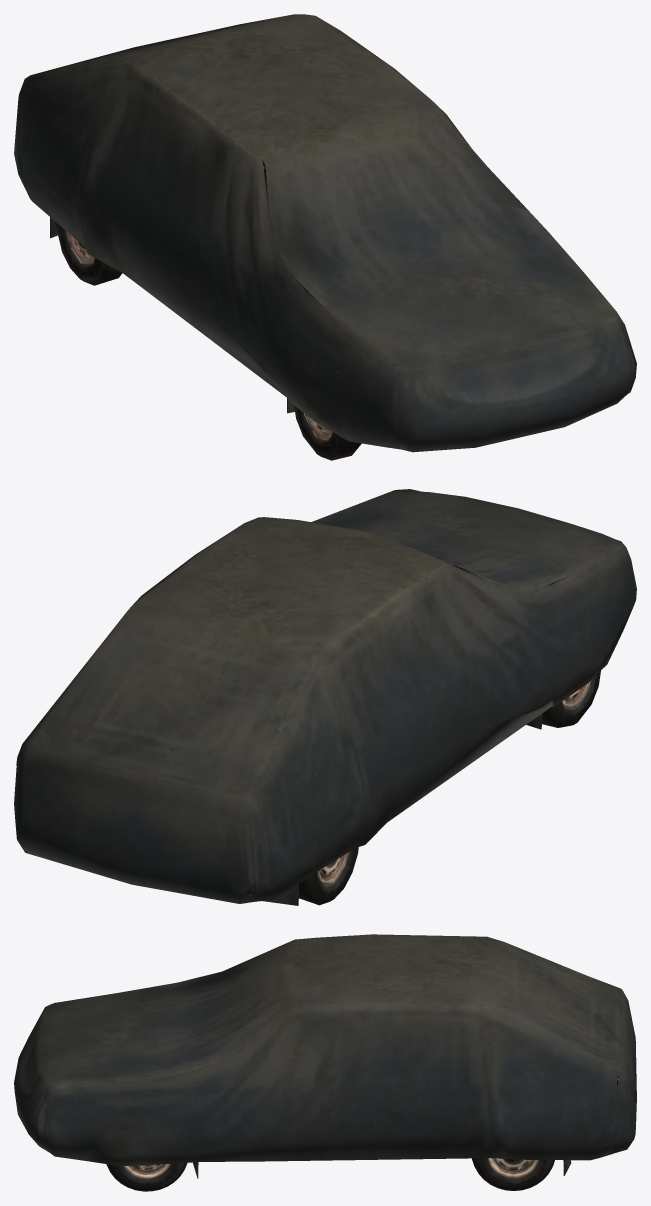
The model's file is voiture_bachee_lod0.glb.
The picture shows the model from 3 angles, top to bottom: view 1: azimuth 30°, elevation 25°; view 2: azimuth 150°, elevation 25°; view 3: azimuth 270°, elevation 25°; orthographic projection. The views are drawn at different scales.
Parts seen in each view (by area): view 1: covered_car_wheel_02; view 2: covered_car_wheel_02; view 3: covered_car_wheel_02, covered_car_wheel_01.
Part boxes in pixels (x1=…): covered_car_wheel_02: x1=14, y1=14, x2=636, y2=460; covered_car_wheel_02: x1=14, y1=489, x2=636, y2=905; covered_car_wheel_02: x1=14, y1=934, x2=636, y2=1178; covered_car_wheel_01: x1=106, y1=1158, x2=554, y2=1191.
Size of the model in its own units: 1.79 by 1.41 by 4.38.
Materials: 1 (1 with a texture image).
